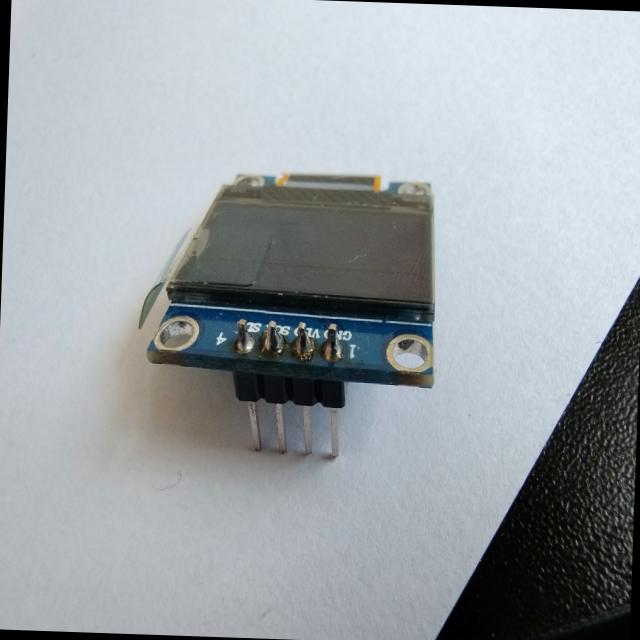oled: (134, 130, 452, 487)
